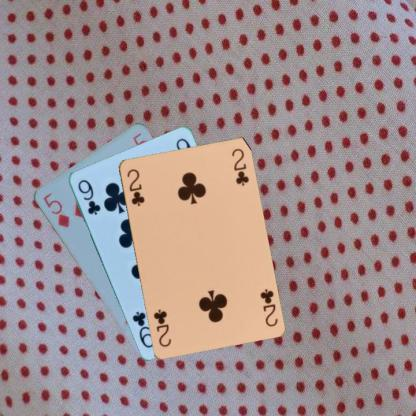2c: (257, 286, 279, 328), (124, 166, 146, 207)
5d: (41, 189, 71, 229)
9c: (74, 177, 102, 216)
